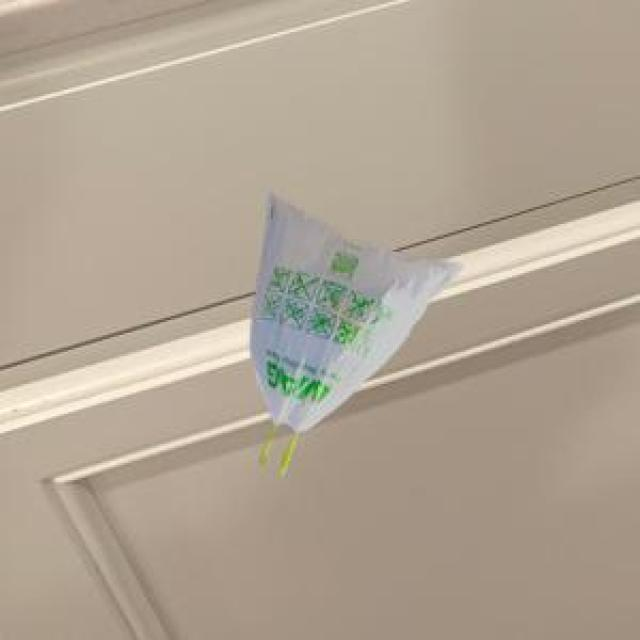waste: (257, 199, 436, 428)
